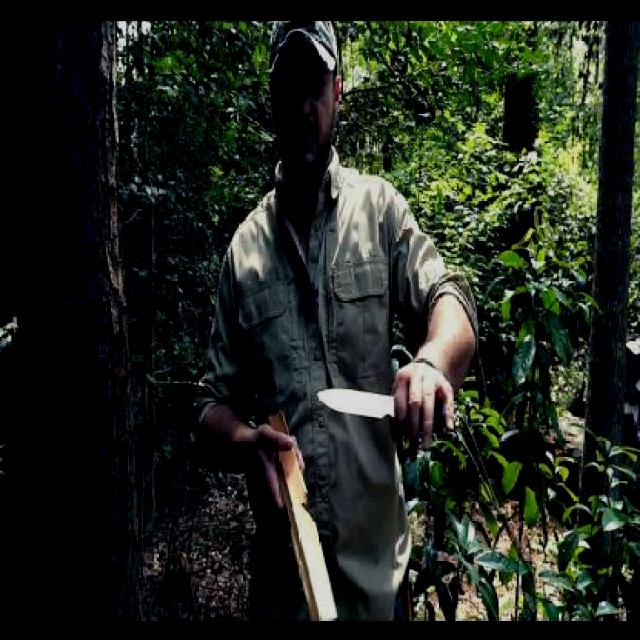knife: (308, 364, 430, 438)
